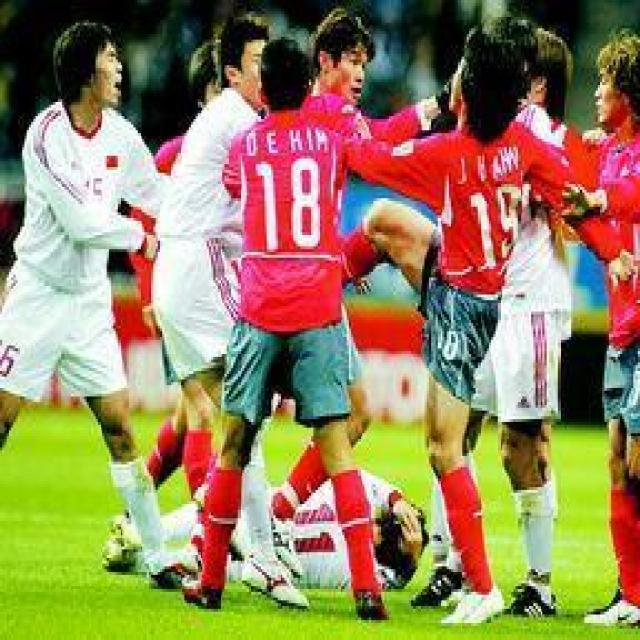fall: (101, 466, 442, 600)
nonfall: (345, 34, 550, 630), (4, 19, 180, 587), (150, 12, 310, 611), (510, 12, 581, 618), (573, 28, 640, 623)
